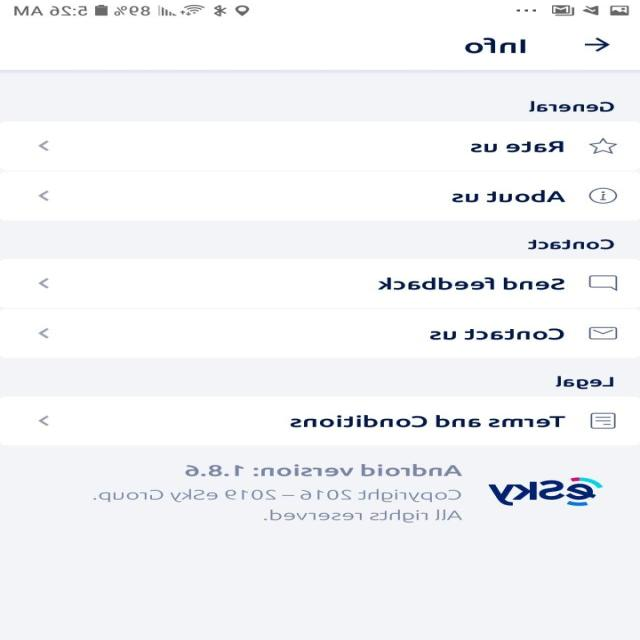Icon: (588, 137, 617, 154), (588, 275, 618, 291), (590, 412, 616, 429), (588, 188, 617, 203), (588, 326, 617, 339), (584, 37, 610, 51), (39, 415, 51, 426), (39, 190, 51, 201), (38, 140, 50, 151), (39, 328, 51, 338), (39, 278, 51, 288)
Image: (488, 477, 604, 506)
Text: (93, 488, 463, 523), (290, 414, 566, 428), (186, 463, 464, 476), (378, 277, 566, 290), (430, 328, 564, 340), (452, 190, 566, 202), (471, 140, 565, 153), (464, 37, 526, 54), (529, 100, 615, 112), (528, 239, 615, 250), (556, 375, 614, 389)
